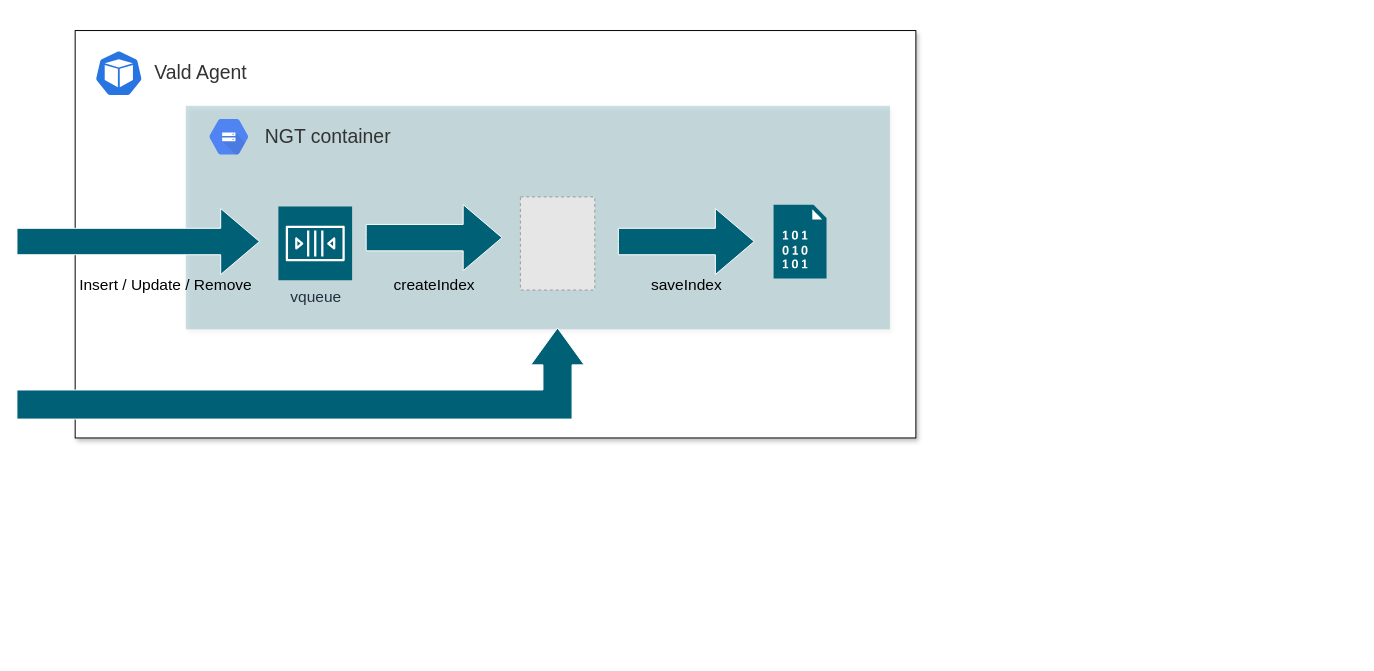
This 1374x671 diagram has some shape labels left out. Grey dashed boxes stand in for pictures. The shapes that lost their labels are listed below. From the top down, each one's centre as x and y in pixels, then its label:
At (x=799, y=241): "backup file".
At (x=300, y=373): "Search / GetObject / Exist".
